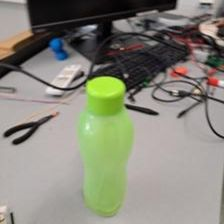bottle: (78, 74, 136, 218)
